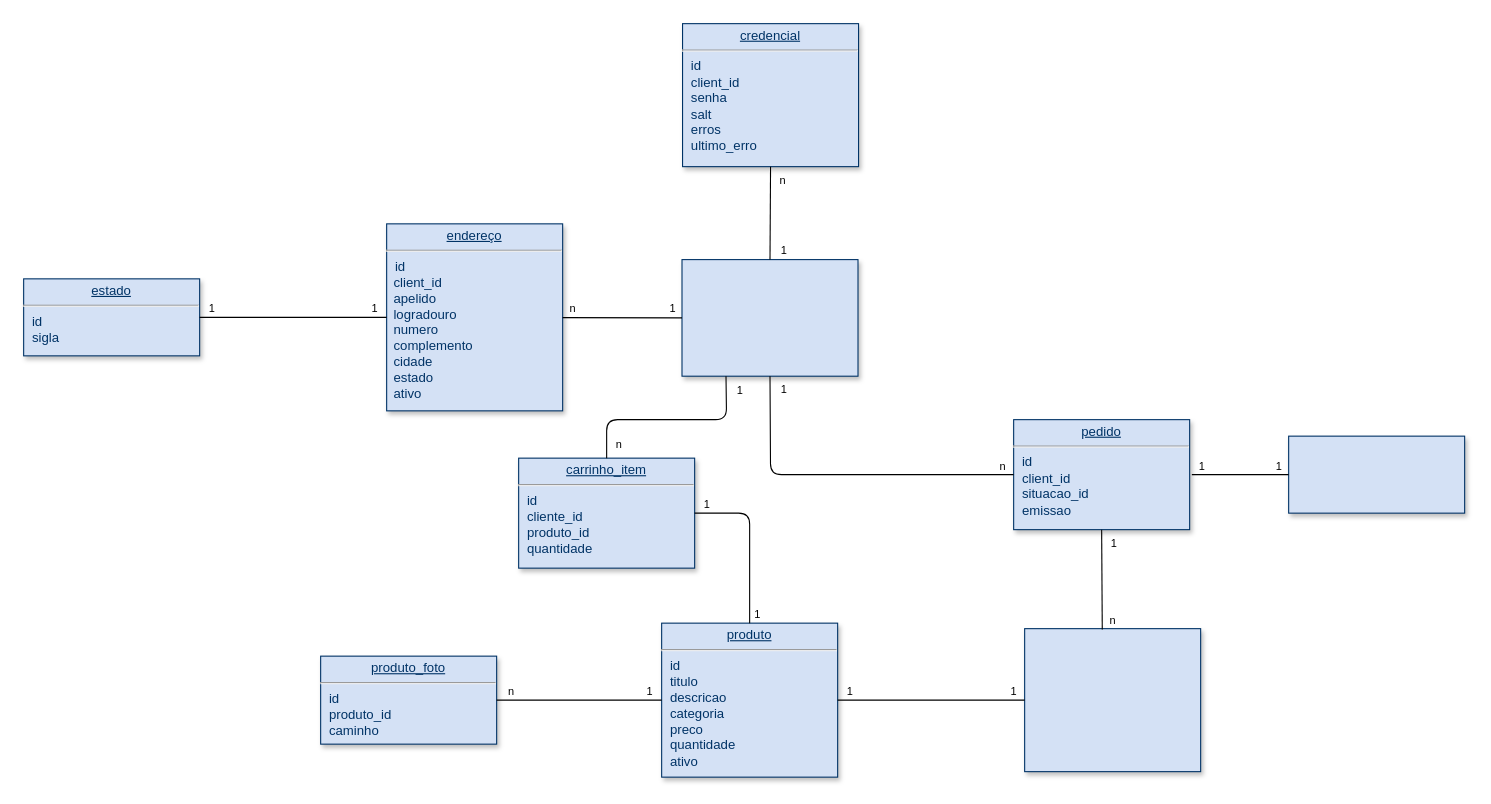
Some shapes in this 1491 by 804 pixel diagram are drawn without their labels. Each missing label, with the centre of its shape:
cliente id nome cpf nascimento email: the point at 770,319
pedido_item id pedido_id produto_id preco desconto quantidade: the point at 1113,701
pedido_situacao id descricao: the point at 1377,476
